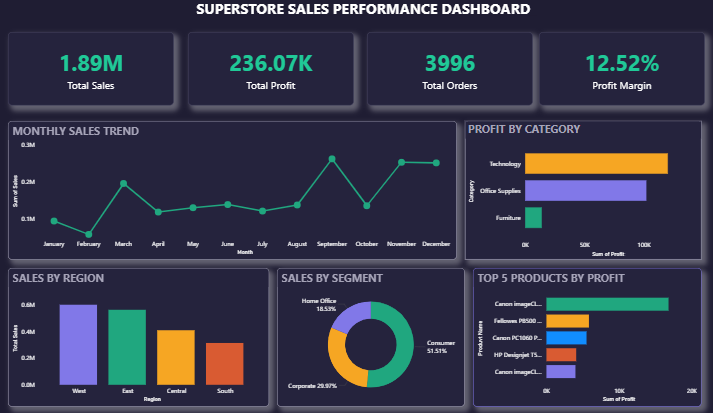

What the dashboard file says about the page in this screenshot:
{"tool":"powerbi","page":{"name":"Page 1","canvas":[1400,800],"ordinal":0},"visuals":[{"type":"textbox","title":"SUPERSTORE SALES PERFORMANCE DASHBOARD","box":[368,0,688,32],"z":0},{"type":"card","title":"TOTAL SALES","fields":{"Values":["superstore_cleaned_data.Total Sales"]},"box":[16,64,325,144],"z":1000},{"type":"card","fields":{"Values":["superstore_cleaned_data.Total Profit"]},"box":[368,64,325,144],"z":2000},{"type":"card","fields":{"Values":["superstore_cleaned_data.Total Orders"]},"box":[720,64,325,144],"z":3000},{"type":"card","fields":{"Values":["superstore_cleaned_data.Profit Margin"]},"box":[1056,64,325,144],"z":4000},{"type":"lineChart","title":"MONTHLY SALES TREND","fields":{"Category":["superstore_cleaned_data.Order_Date.Variation.Date Hierarchy.Month"],"Y":["Sum(superstore_cleaned_data.Sales)"]},"box":[16,240,880,272],"z":5000},{"type":"clusteredColumnChart","title":"SALES BY REGION","fields":{"Category":["superstore_cleaned_data.Region"],"Y":["superstore_cleaned_data.Total Sales"]},"box":[16,528,512,272],"z":6000},{"type":"donutChart","title":"SALES BY SEGMENT","fields":{"Category":["superstore_cleaned_data.Segment"],"Y":["Sum(superstore_cleaned_data.Sales)"]},"box":[544,528,368,272],"z":7000},{"type":"clusteredBarChart","title":"PROFIT BY CATEGORY","fields":{"Category":["superstore_cleaned_data.Category"],"Y":["Sum(superstore_cleaned_data.Profit)"]},"box":[912,240,464,272],"z":8000},{"type":"clusteredBarChart","title":"TOP 5 PRODUCTS BY PROFIT","fields":{"Category":["superstore_cleaned_data.Product_Name"],"Y":["Sum(superstore_cleaned_data.Profit)"]},"box":[928,528,448,272],"z":9000}]}

Visuals, with their boxes in screenshot pixels (x1, y1, x2, y2), scaled from the page's 1400x800 canvas onto the 713x413 screenshot:
"SUPERSTORE SALES PERFORMANCE DASHBOARD" textbox: [187, 0, 538, 17]
"TOTAL SALES" card: [8, 33, 174, 107]
card - superstore_cleaned_data.Total Profit: [187, 33, 353, 107]
card - superstore_cleaned_data.Total Orders: [367, 33, 532, 107]
card - superstore_cleaned_data.Profit Margin: [538, 33, 703, 107]
"MONTHLY SALES TREND" lineChart: [8, 124, 456, 264]
"SALES BY REGION" clusteredColumnChart: [8, 273, 269, 412]
"SALES BY SEGMENT" donutChart: [277, 273, 464, 412]
"PROFIT BY CATEGORY" clusteredBarChart: [464, 124, 701, 264]
"TOP 5 PRODUCTS BY PROFIT" clusteredBarChart: [473, 273, 701, 412]
